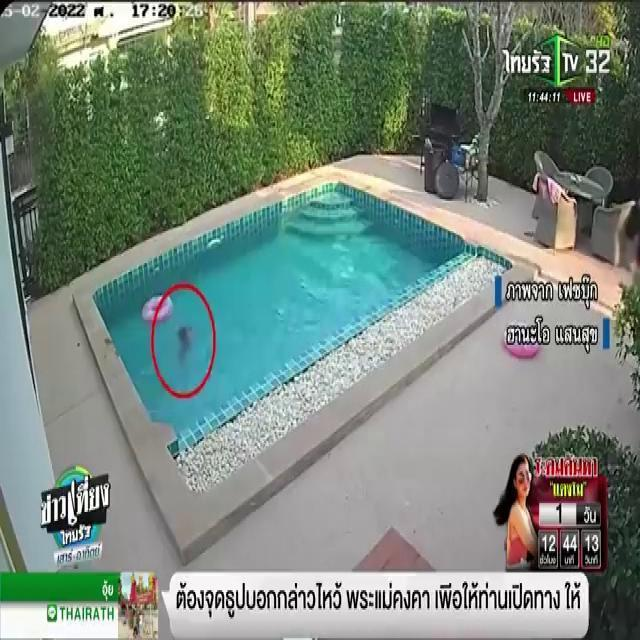Out of Water: (169, 316, 197, 379)
